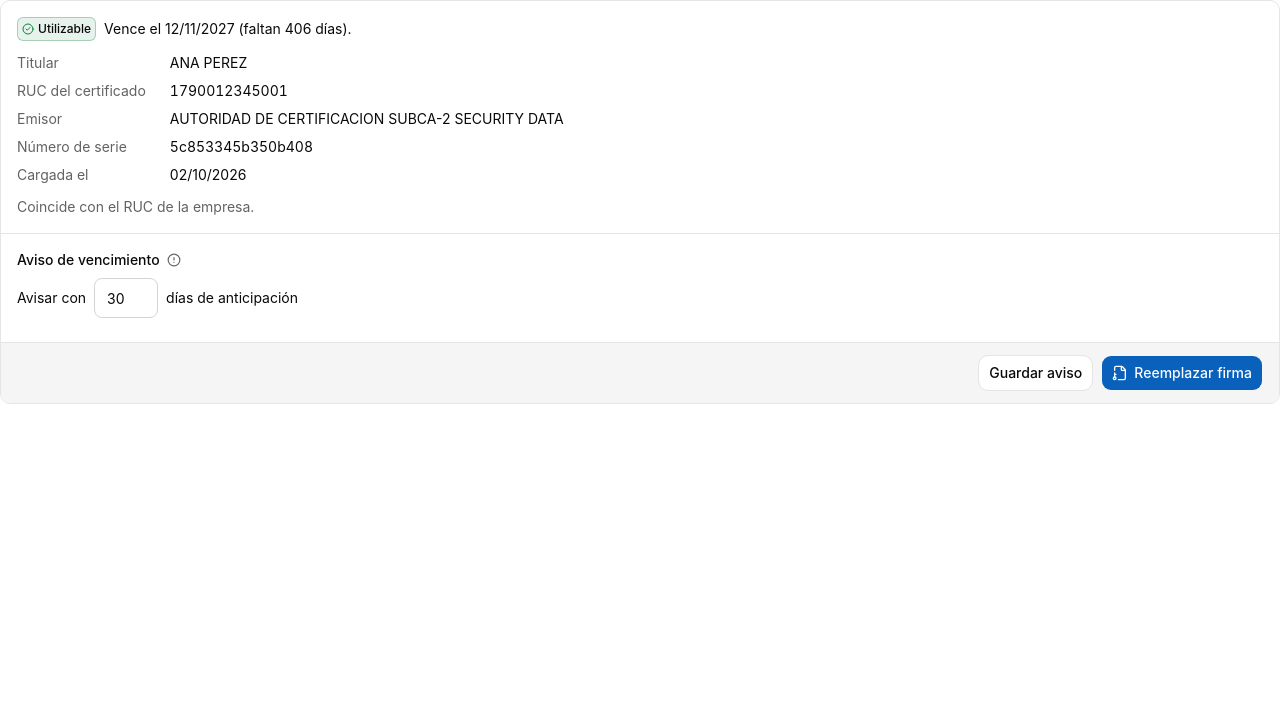
Test: Firma electrónica (design D14) › fija la anticipación del aviso, validada entre 1 y 90
The width and height of the screenshot is (1280, 720).
Replace the text in the field labelled "Aviso de vencimiento" with "95" at (126, 298), box [94, 278, 158, 318]
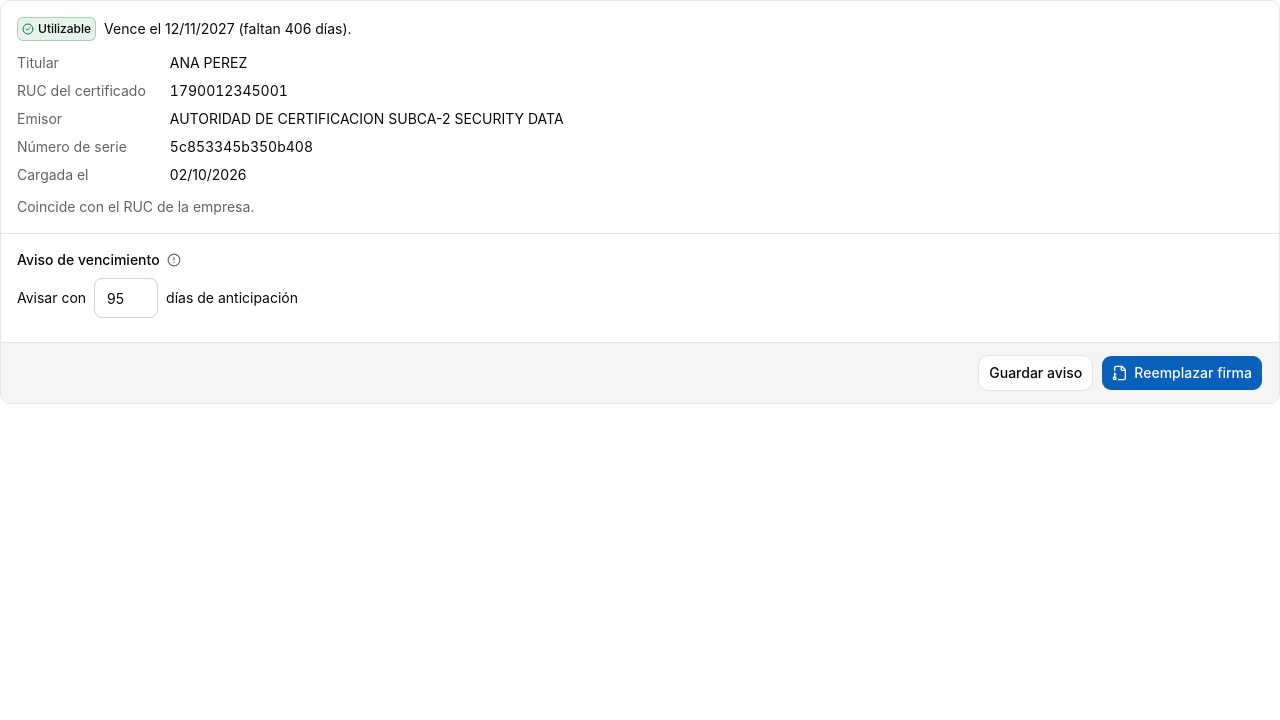
Click the button "Guardar aviso" at (1036, 373), box [978, 355, 1093, 391]
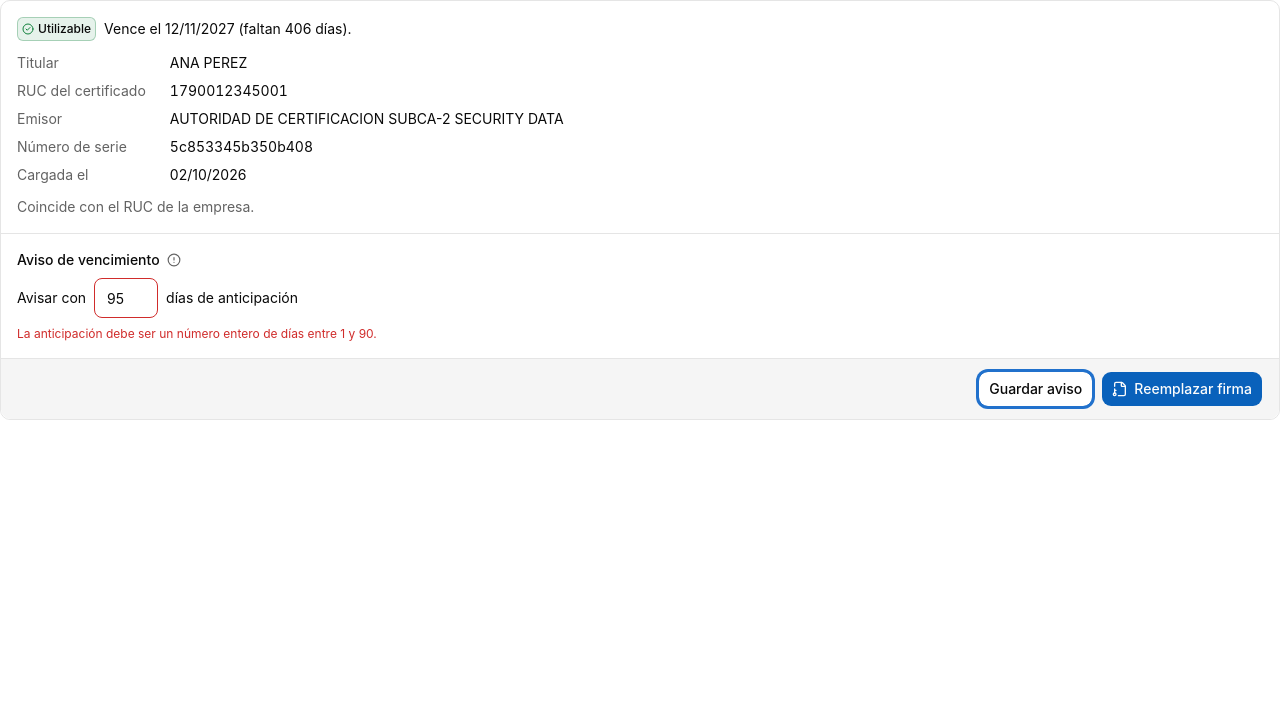
Now the text "La anticipación debe ser un número entero de días entre 1 y 90." is shown, box [17, 326, 377, 341]
Replace the text in the field labelled "Aviso de vencimiento" with "45" at (126, 298), box [94, 278, 158, 318]
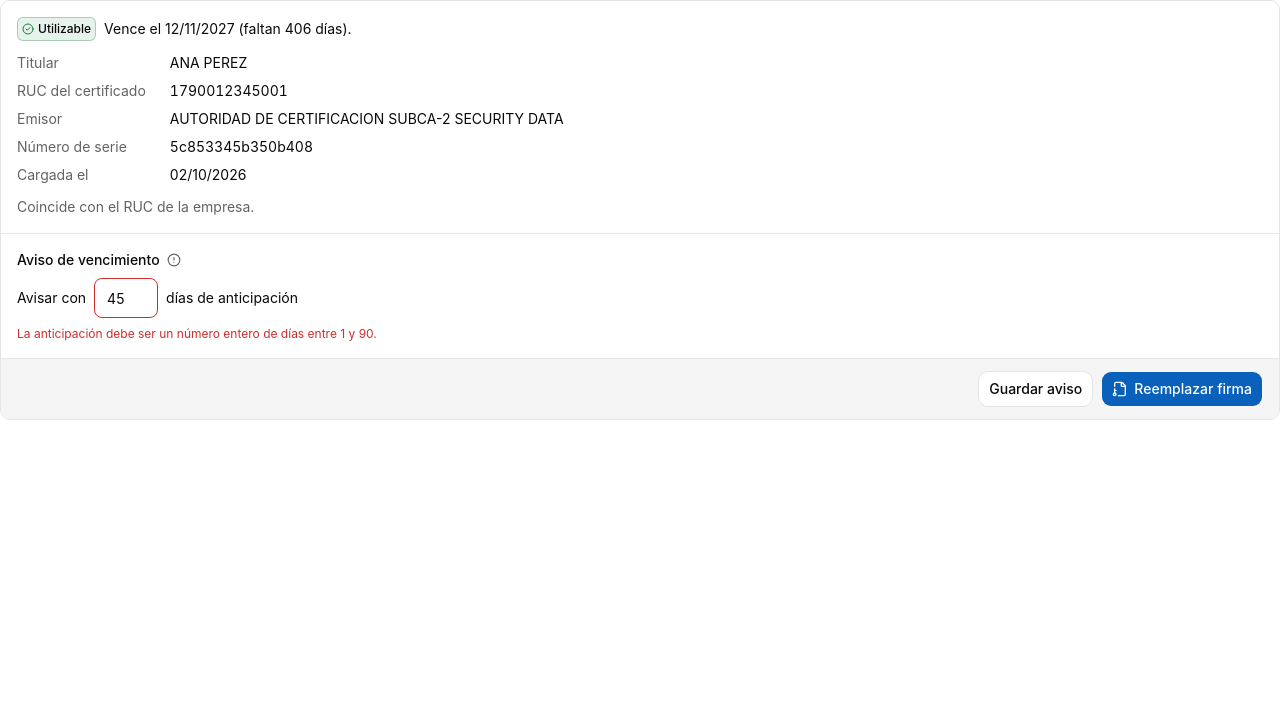
Click the button "Guardar aviso" at (1036, 389), box [978, 371, 1093, 407]
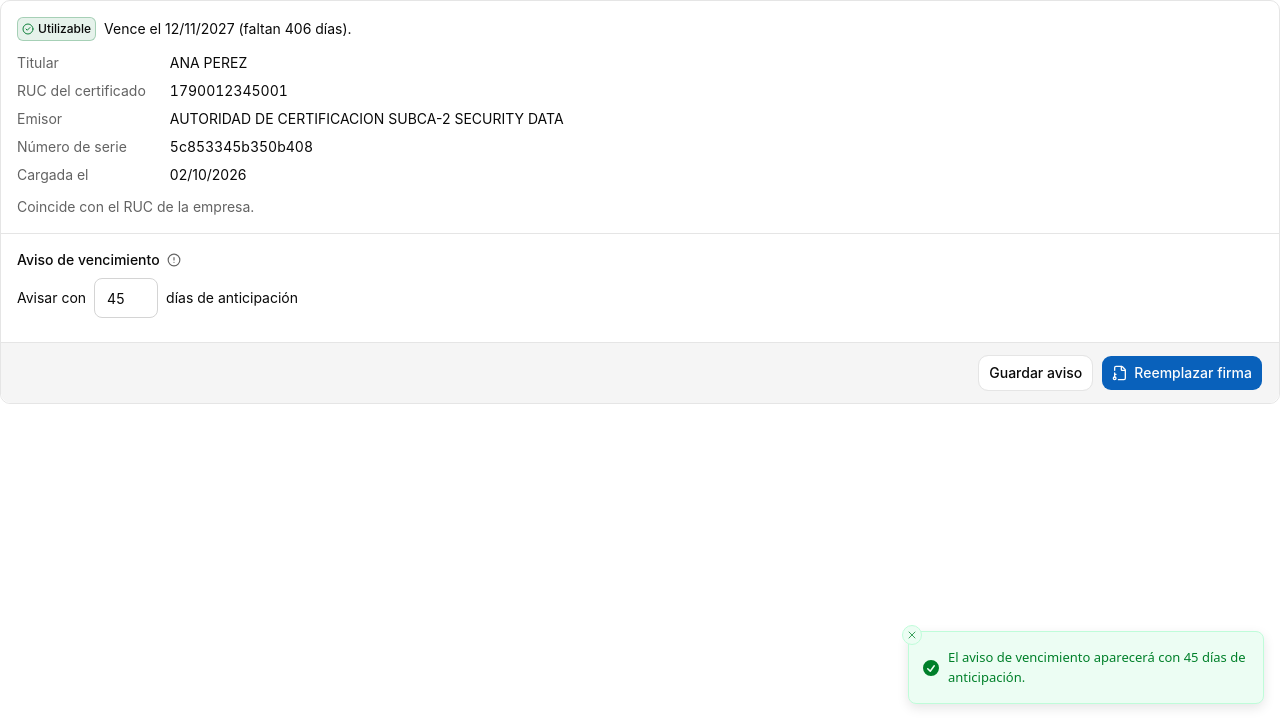
Now the text "El aviso de vencimiento aparecerá con 45 días de anticipación." is shown, box [948, 648, 1247, 687]
